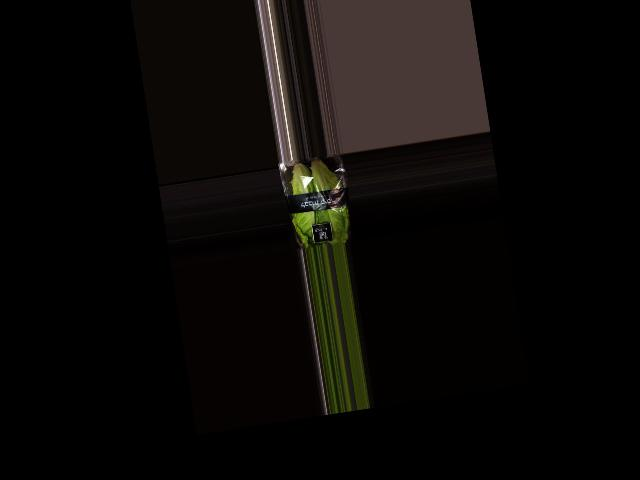lettuce: (278, 153, 351, 250)
